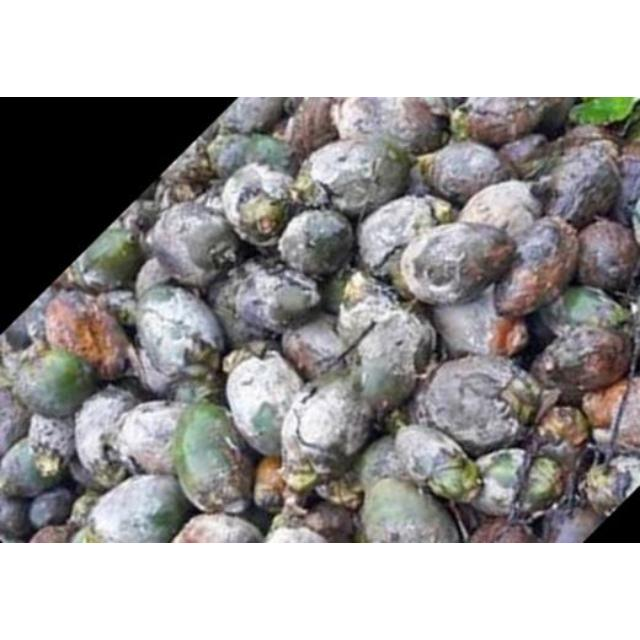damaged: (409, 354, 537, 456), (280, 374, 378, 482), (346, 304, 436, 414), (398, 220, 512, 306), (486, 216, 582, 318), (132, 285, 228, 387), (170, 402, 256, 514), (302, 136, 412, 220), (45, 288, 137, 382), (224, 352, 304, 458), (144, 200, 240, 288), (355, 196, 449, 284), (530, 140, 622, 228), (528, 322, 630, 398), (84, 473, 194, 542), (428, 288, 526, 362), (72, 387, 144, 487), (392, 424, 482, 504), (218, 161, 300, 247), (230, 260, 324, 334), (358, 477, 462, 543), (114, 399, 190, 479), (12, 349, 96, 421), (418, 141, 509, 205), (276, 208, 354, 278), (71, 224, 147, 294), (456, 180, 544, 238), (574, 218, 638, 294), (280, 316, 354, 380), (130, 340, 184, 400), (28, 488, 72, 530), (0, 495, 32, 539)
